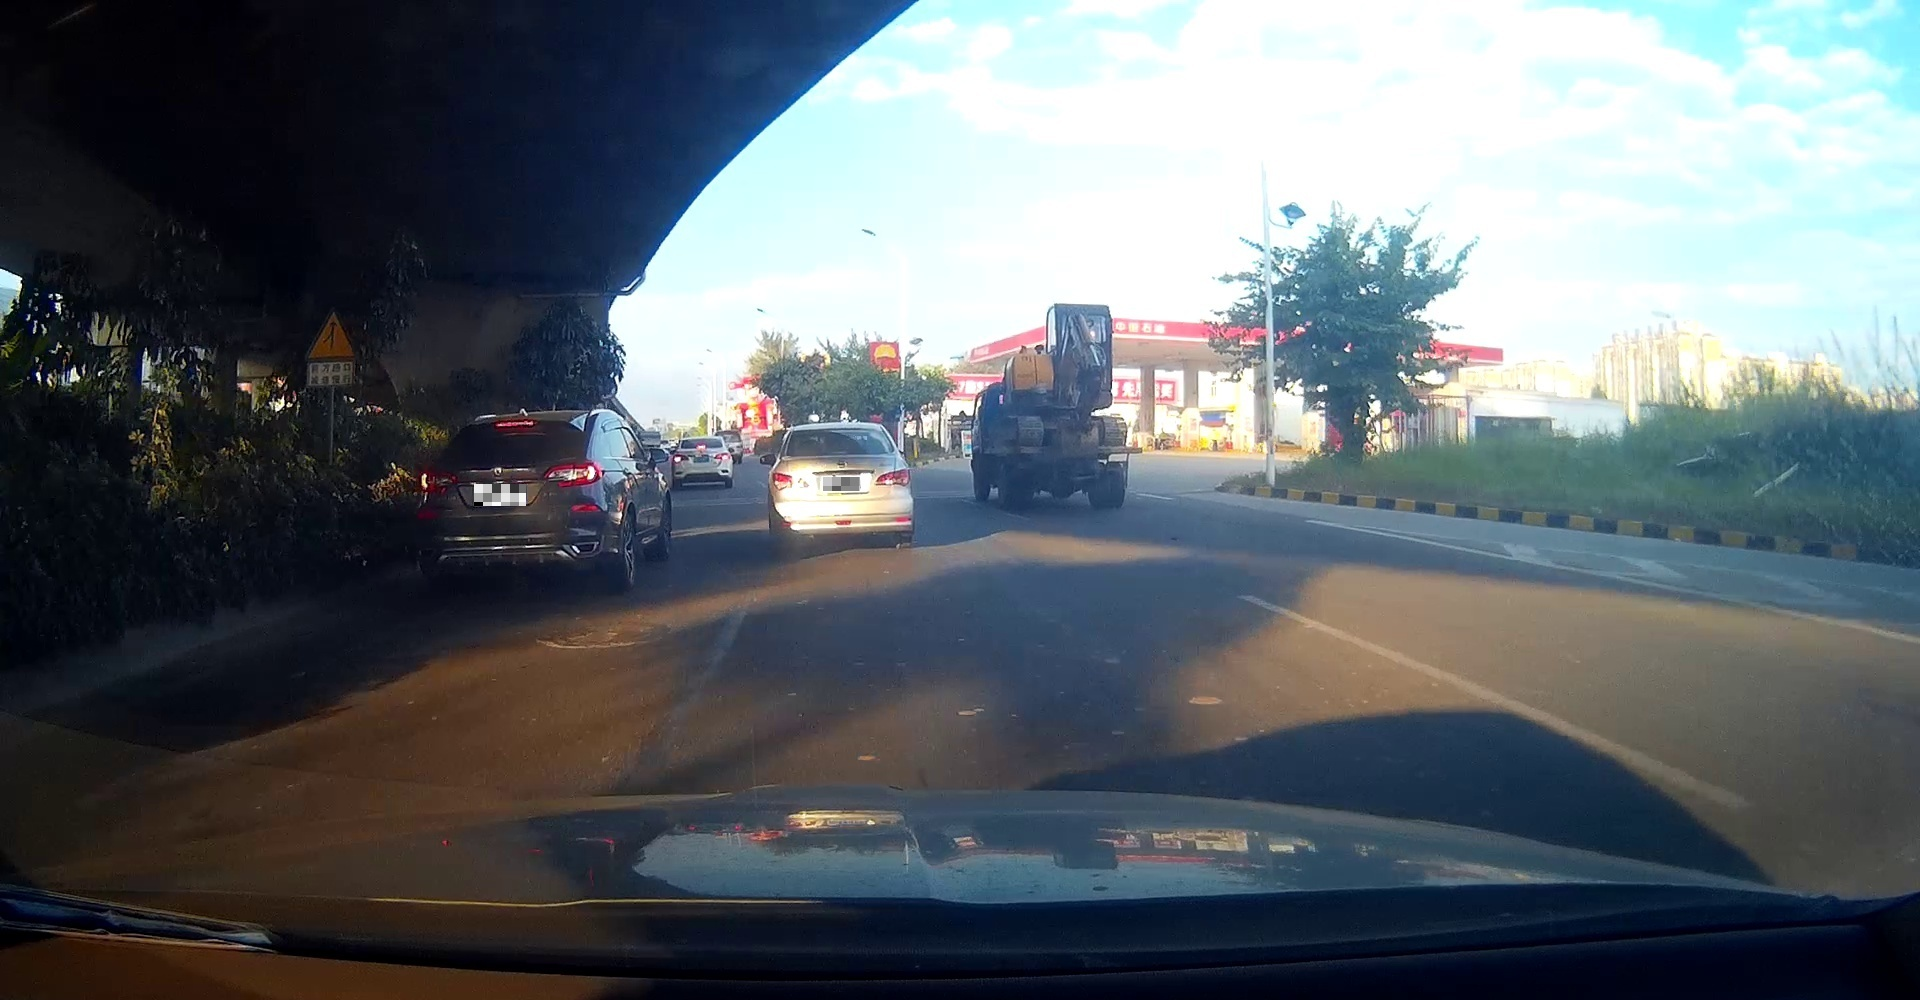L_light: (417, 471, 457, 492), (772, 473, 808, 490), (673, 454, 690, 463)
R_light: (543, 459, 602, 489), (874, 468, 910, 486), (712, 453, 729, 459)
T_light: (493, 420, 533, 426), (696, 445, 706, 449), (833, 430, 848, 433)
day-brake: (415, 412, 603, 594), (670, 437, 731, 489)
day-no: (768, 423, 913, 555)
plate_1: (474, 484, 526, 506)
plate_2: (823, 477, 860, 491)
